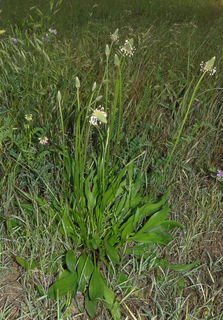buckhorn plantain: (52, 27, 208, 291)
